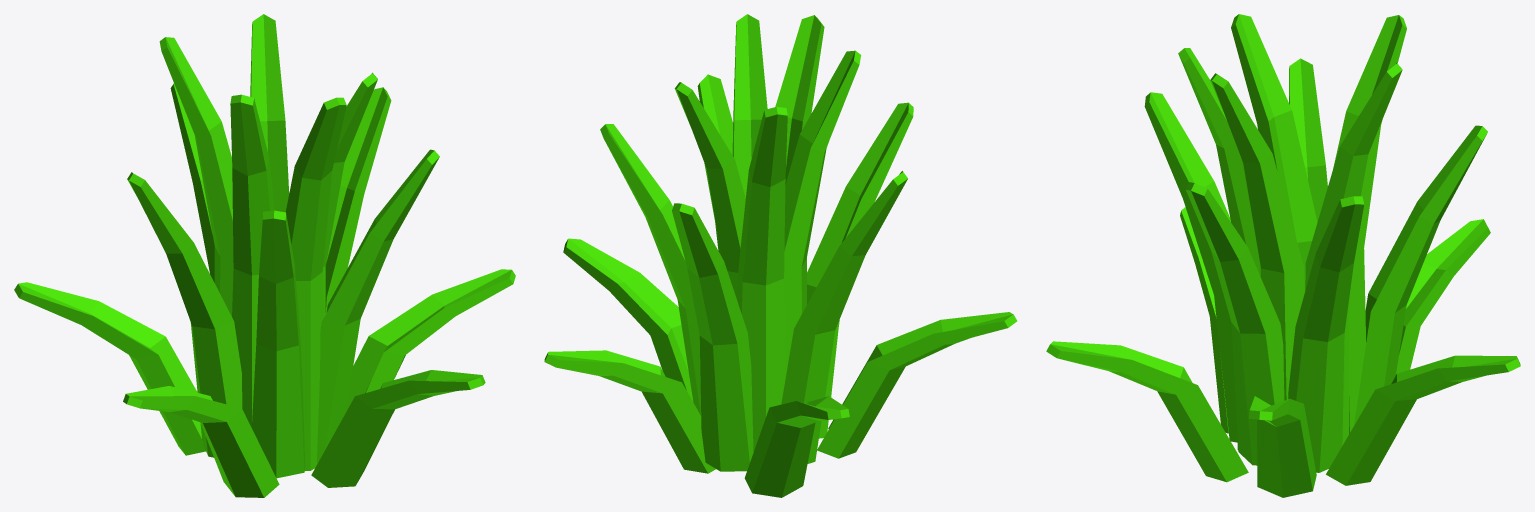
Rendered from 05.07_Bubuia_planta2.fbx.
3 renders of one model, left to right at view 1: azimuth 30°, elevation 25°; view 2: azimuth 150°, elevation 25°; view 3: azimuth 270°, elevation 25°, orthographic. The views are drawn at different scales.
Parts seen in each view (by area): view 1: Cube; view 2: Cube; view 3: Cube.
Part boxes in pixels (left/top/right/bottom): Cube: left=14, top=14, right=515, bottom=497; Cube: left=544, top=14, right=1017, bottom=497; Cube: left=1046, top=14, right=1520, bottom=497.
Size of the model in its own units: 4.67 by 4.25 by 4.43.
